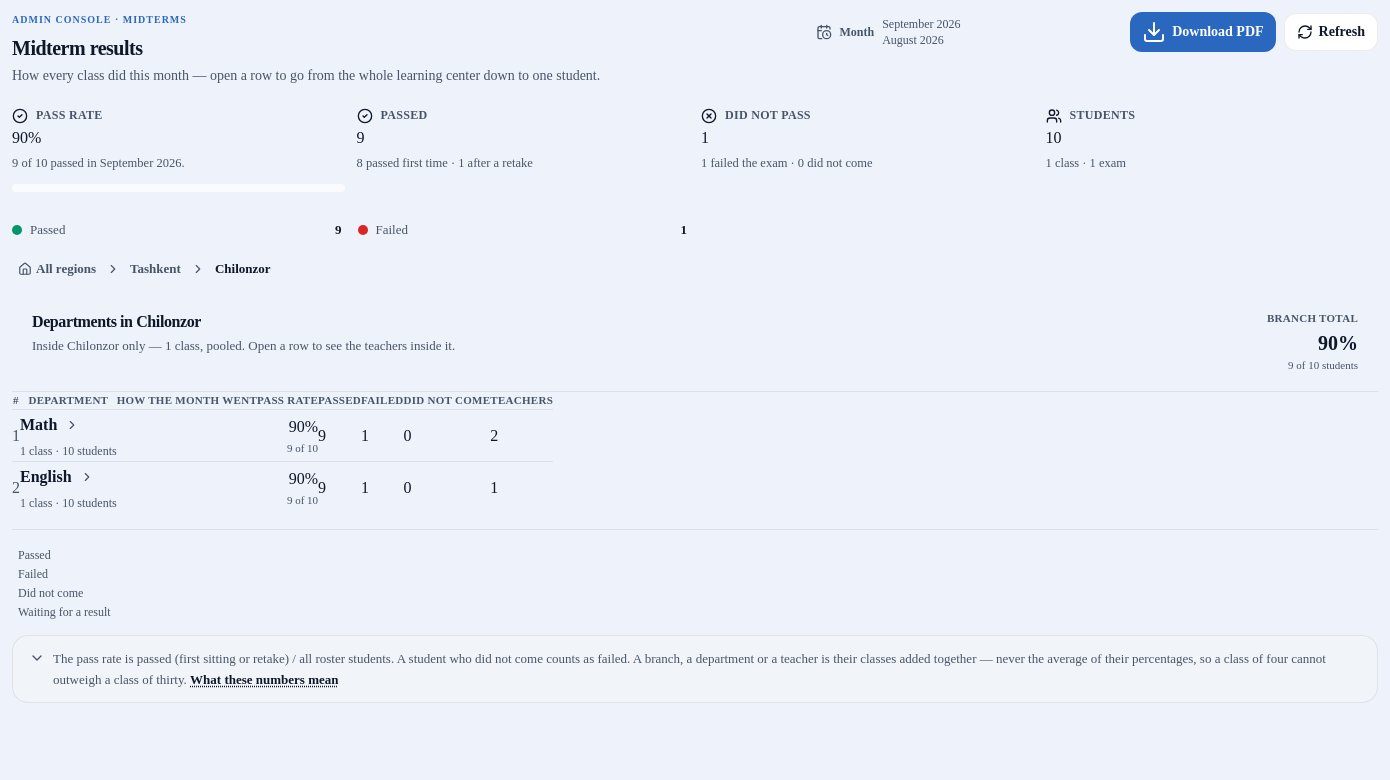
it: MidtermStatsPage › keeps the school total in the tiles wherever the reader has drilled to
Click the button "Math" at (64, 425), box top-left (16, 410), bottom-right (113, 440)
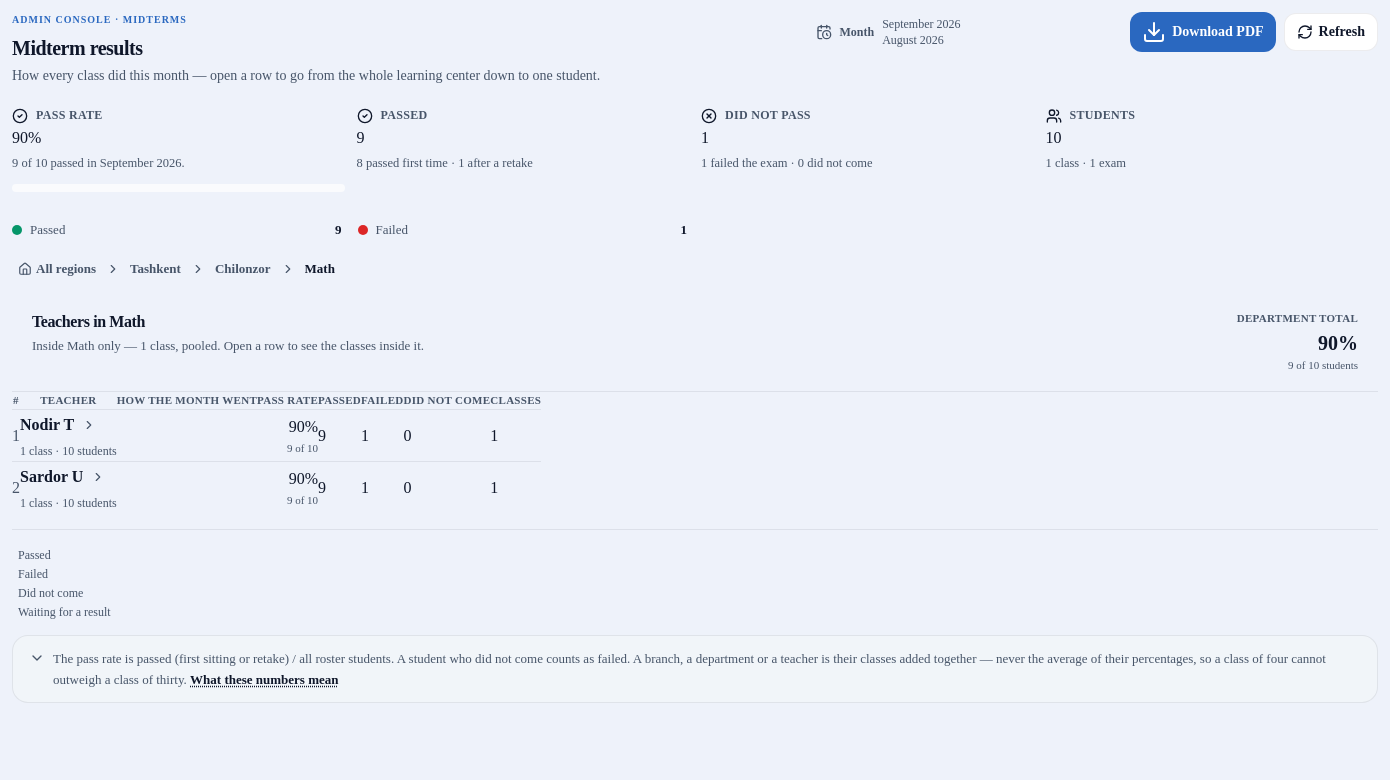
Result: the text "Teachers in Math" is shown at top-left (32, 313), bottom-right (145, 330)
